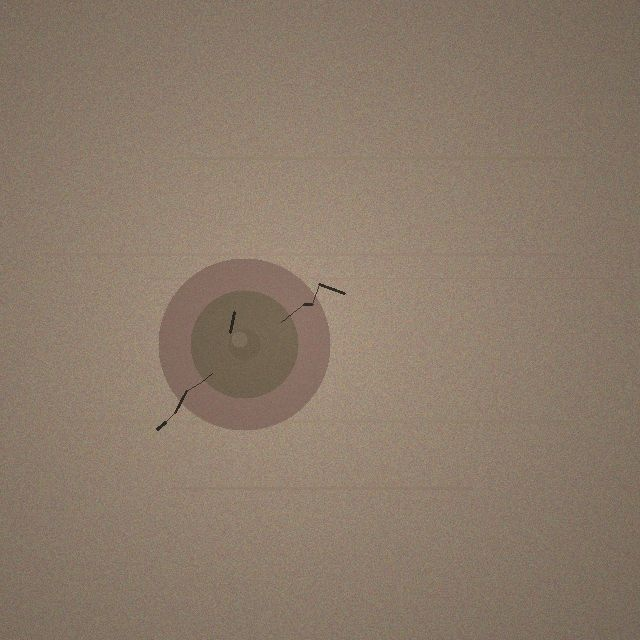crack: (158, 258, 330, 430)
